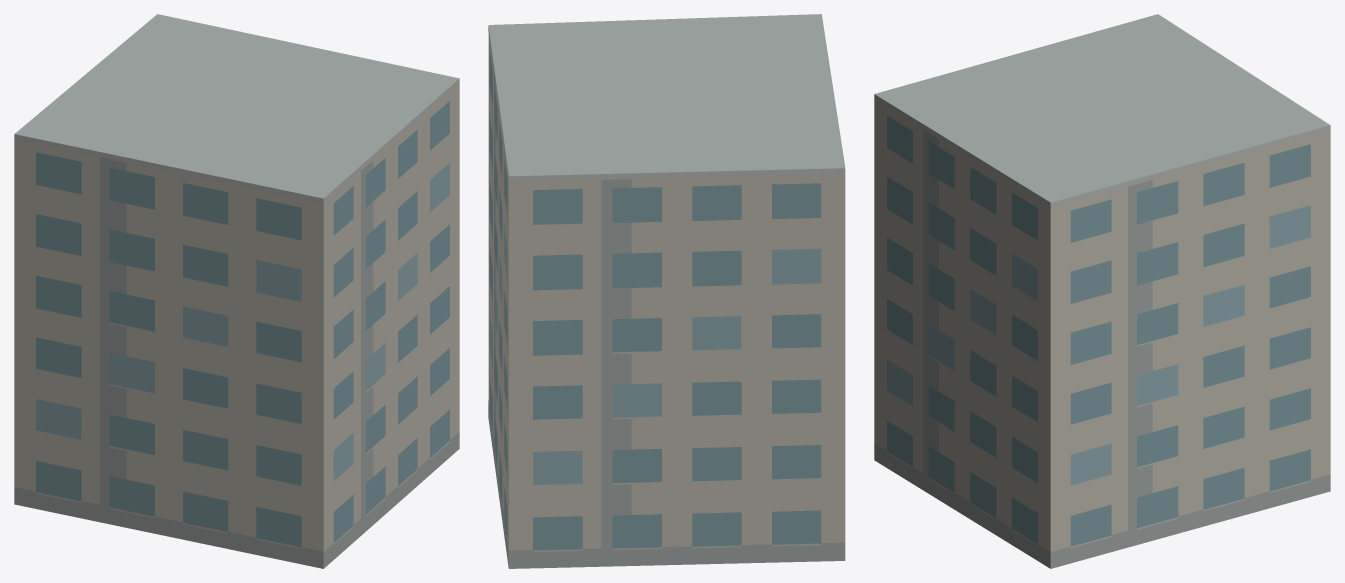
Rendered from survey-upis-32810723.glb.
The picture shows the model from 3 angles, left to right: view 1: azimuth 30°, elevation 25°; view 2: azimuth 150°, elevation 25°; view 3: azimuth 270°, elevation 25°; orthographic projection. The views are drawn at different scales.
Parts seen in each view (by area): view 1: survey-upis-32810723.tmp; view 2: survey-upis-32810723.tmp; view 3: survey-upis-32810723.tmp.
Boxes of the visible parts, x1,y1,x2,y2 form: survey-upis-32810723.tmp: (14, 14, 459, 568); survey-upis-32810723.tmp: (488, 14, 845, 568); survey-upis-32810723.tmp: (874, 14, 1330, 568).
Bounding box in the file's own units: 18.29 × 16.55 × 18.69.
